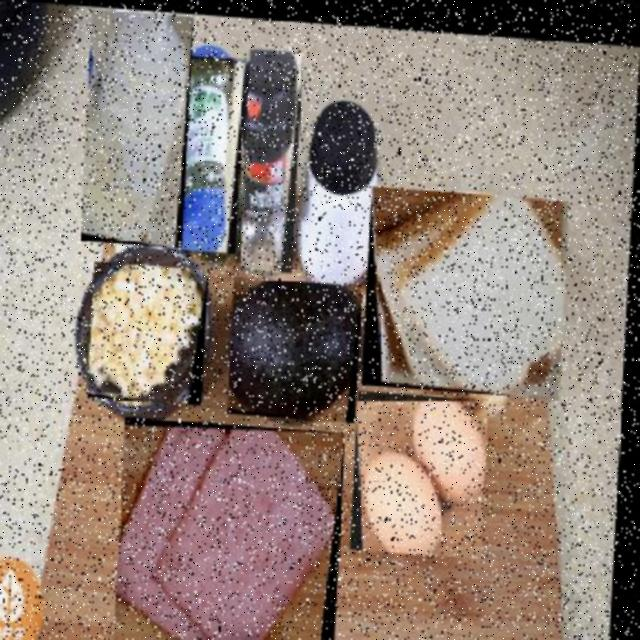Avocado: (230, 274, 365, 420)
Bread: (364, 180, 570, 392)
Cheese: (90, 261, 212, 405)
Egg: (355, 385, 493, 552)
Ham: (117, 414, 349, 638)
Mayonnaise: (81, 8, 194, 247)
